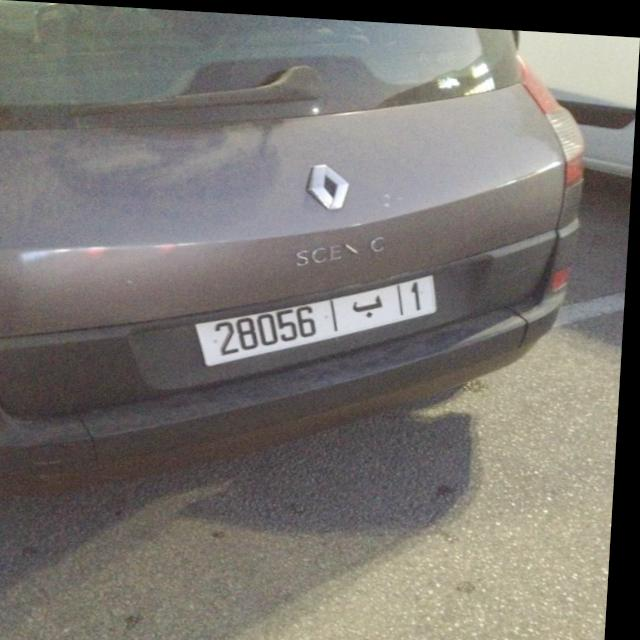License-Plate: (200, 271, 439, 363)
